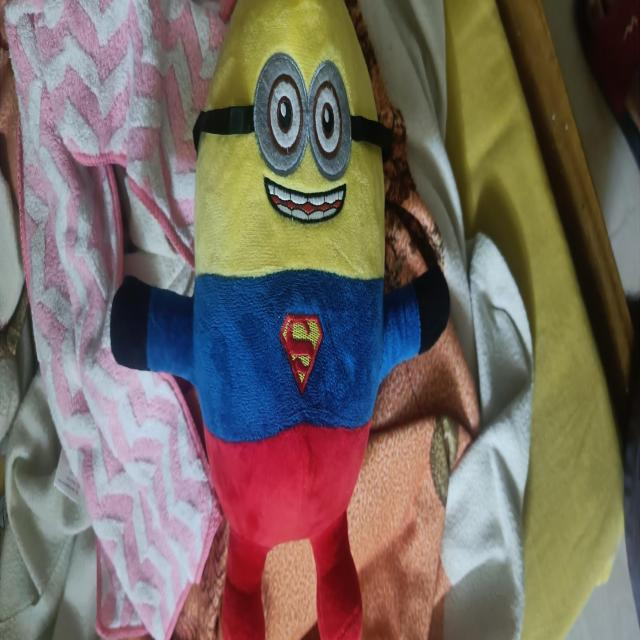minion: (108, 0, 466, 640)
